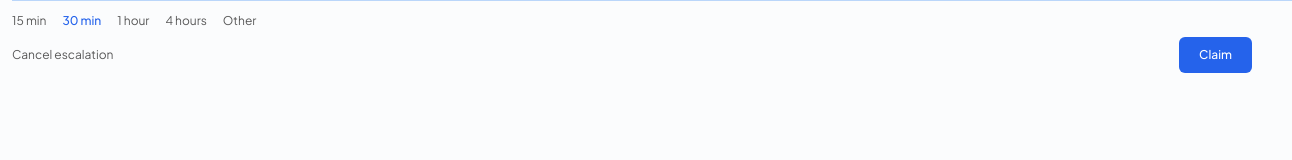
Test: EscalationActionBar › shows custom input when Other is clicked
Click the button "Other": (240, 21) [223,13,256,29]
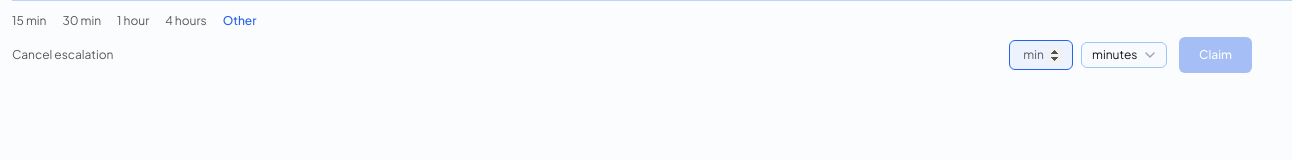
Expected: the element with test id "custom-duration-input" is shown, [1009,40,1167,70]
